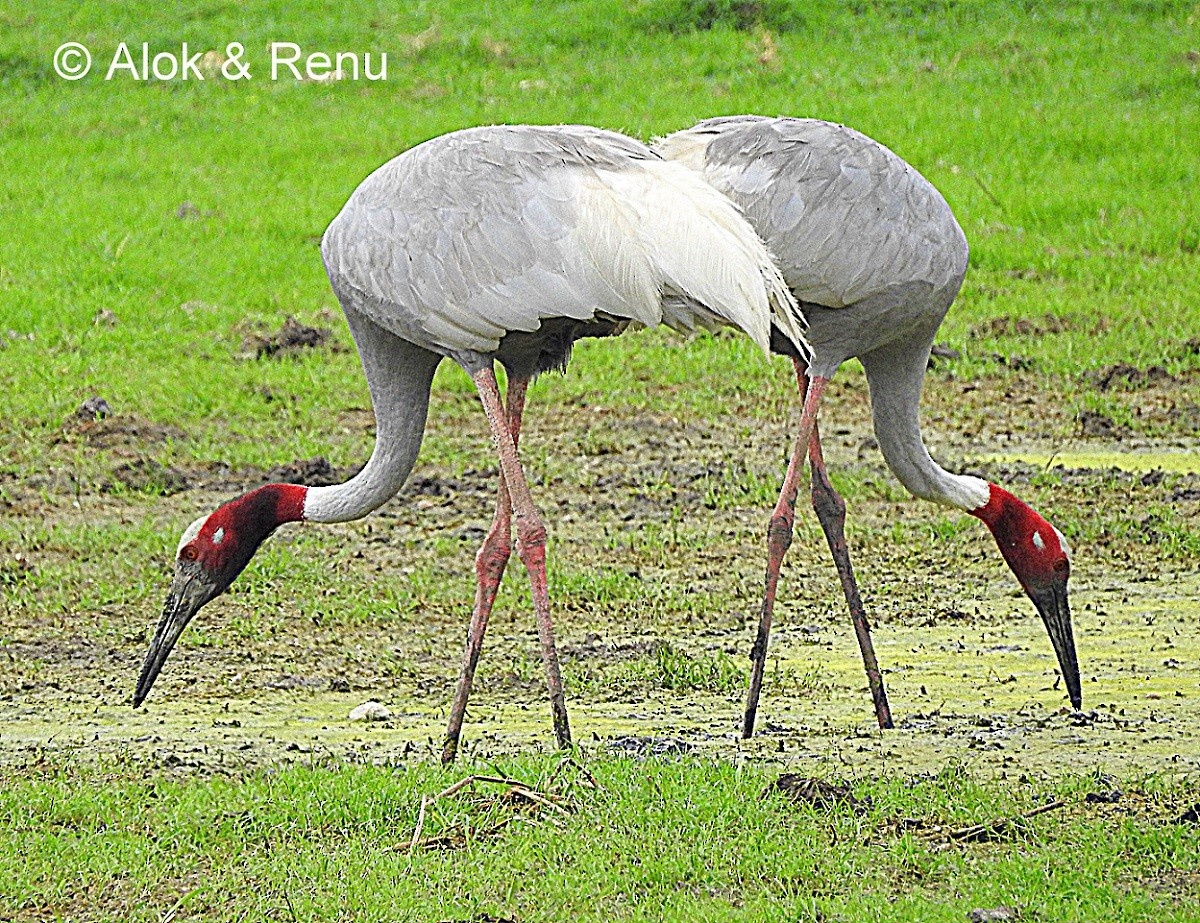crane: (101, 178, 813, 765), (554, 103, 1132, 736)
